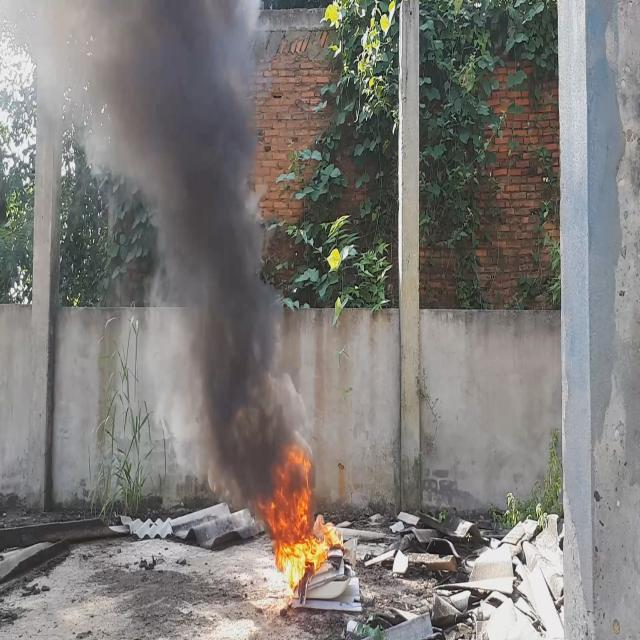Fire: (257, 442, 333, 594)
Smoke: (0, 0, 308, 511)
